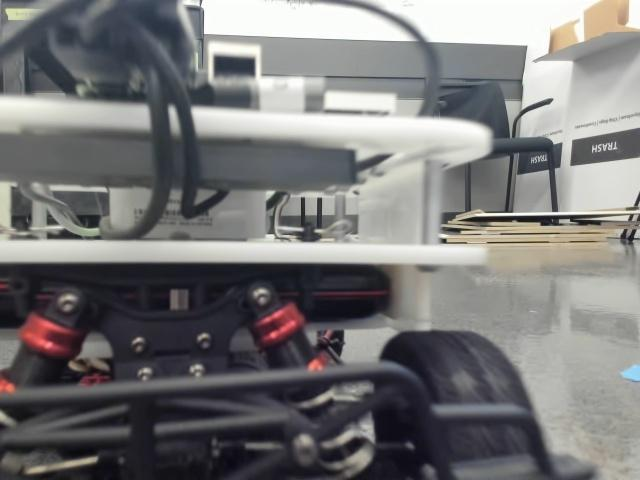Car: (0, 0, 543, 478)
